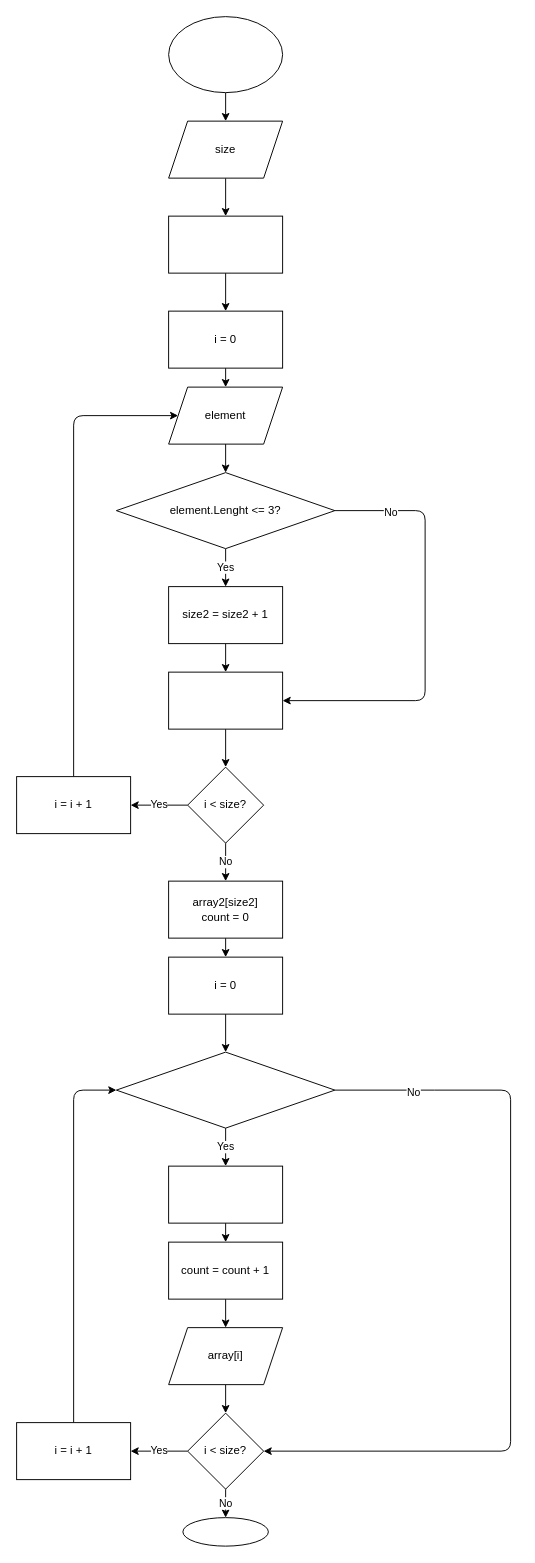
The diagram is 535 pixels wide and 1563 high, and some of its shapes have lost their labels. Each missing label, with the centre of its shape:
array2[count]=array[i]: pixel 225 1194
array[i] = element: pixel 225 700
array[i].Length <= 3?: pixel 225 1089
array[size] size2 = 0: pixel 225 244
End: pixel 225 1531
Start: pixel 225 54
